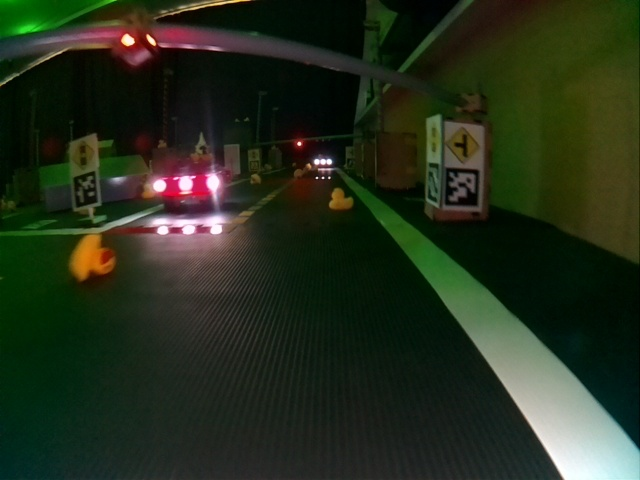Duckie: (69, 235, 113, 280), (329, 188, 351, 208), (250, 174, 261, 184)
Duckiebot: (151, 153, 232, 207), (312, 154, 334, 168)
Intersection sign: (446, 125, 484, 164)
QR code: (443, 170, 478, 208), (72, 172, 98, 209), (425, 162, 441, 206)
Signal sign: (71, 141, 93, 167), (427, 122, 440, 157)
Traffic light: (113, 25, 159, 70), (298, 140, 305, 148)
